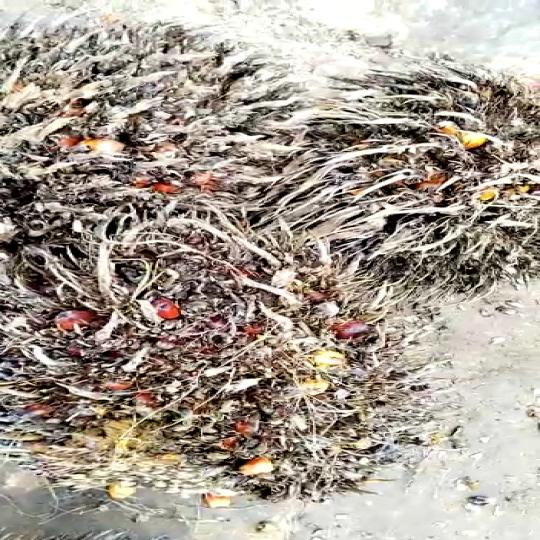terlalu masak: (0, 230, 470, 510), (249, 59, 540, 280)
